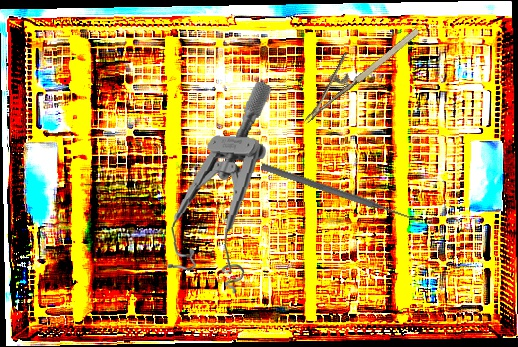Needle Holder: (285, 9, 423, 125)
Pusher: (259, 161, 418, 225)
Speculum: (164, 76, 273, 296)
